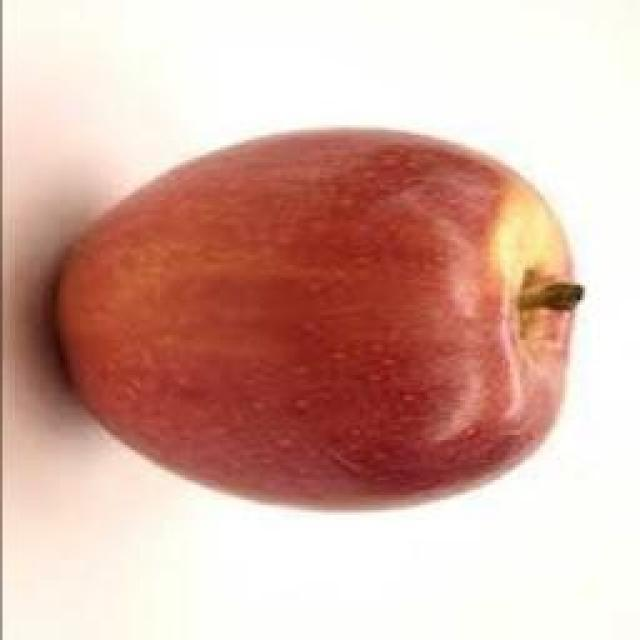Apple: (56, 130, 582, 506)
